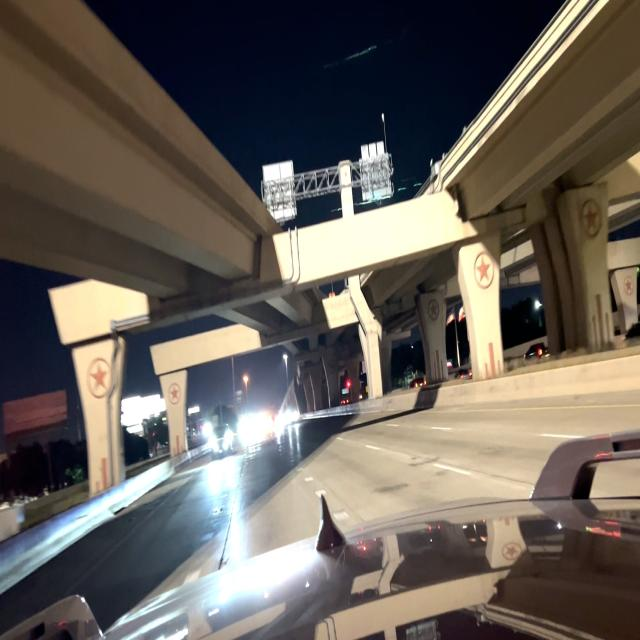back-of-sign: (264, 163, 297, 223), (361, 139, 390, 199)
